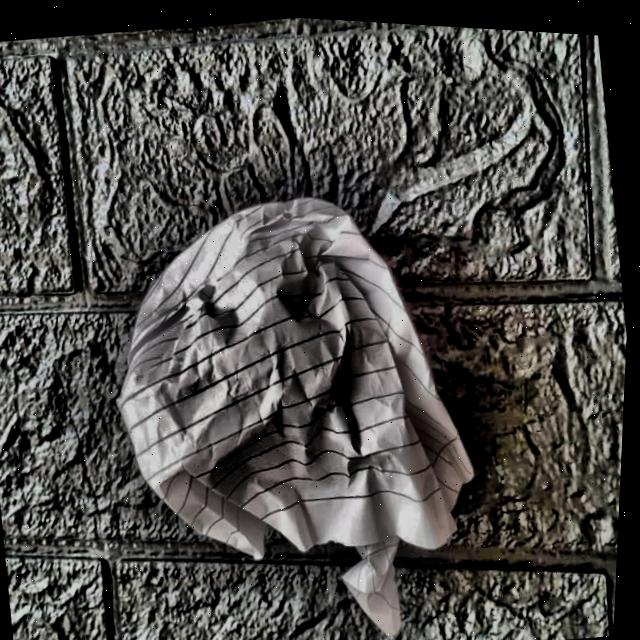paper: (88, 159, 518, 640)
